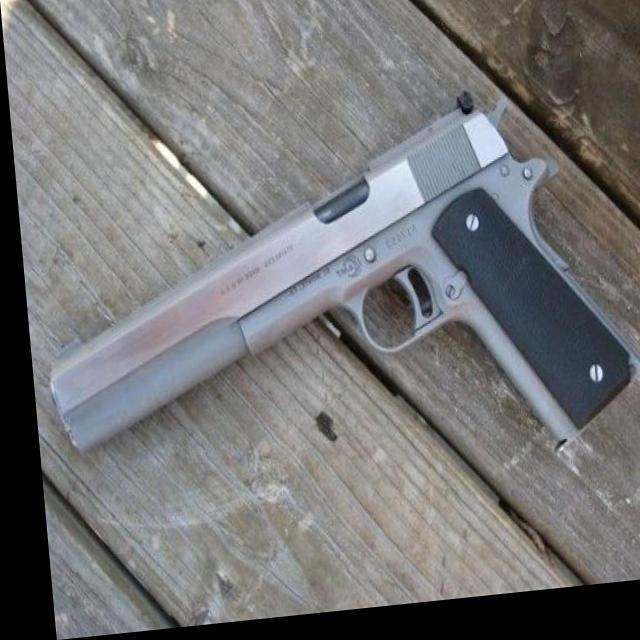handgun: (26, 87, 640, 511)
